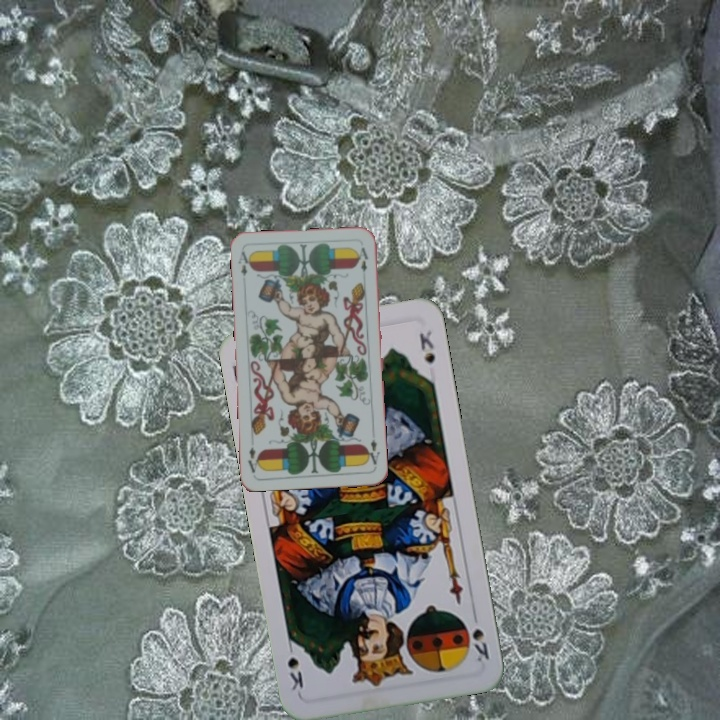EA: (363, 435, 382, 467), (234, 248, 253, 278)
SK: (468, 607, 492, 665)
